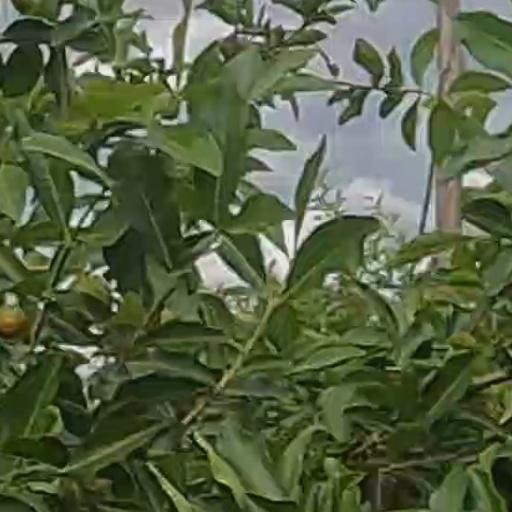acerola_vermelha: (1, 308, 26, 340)
